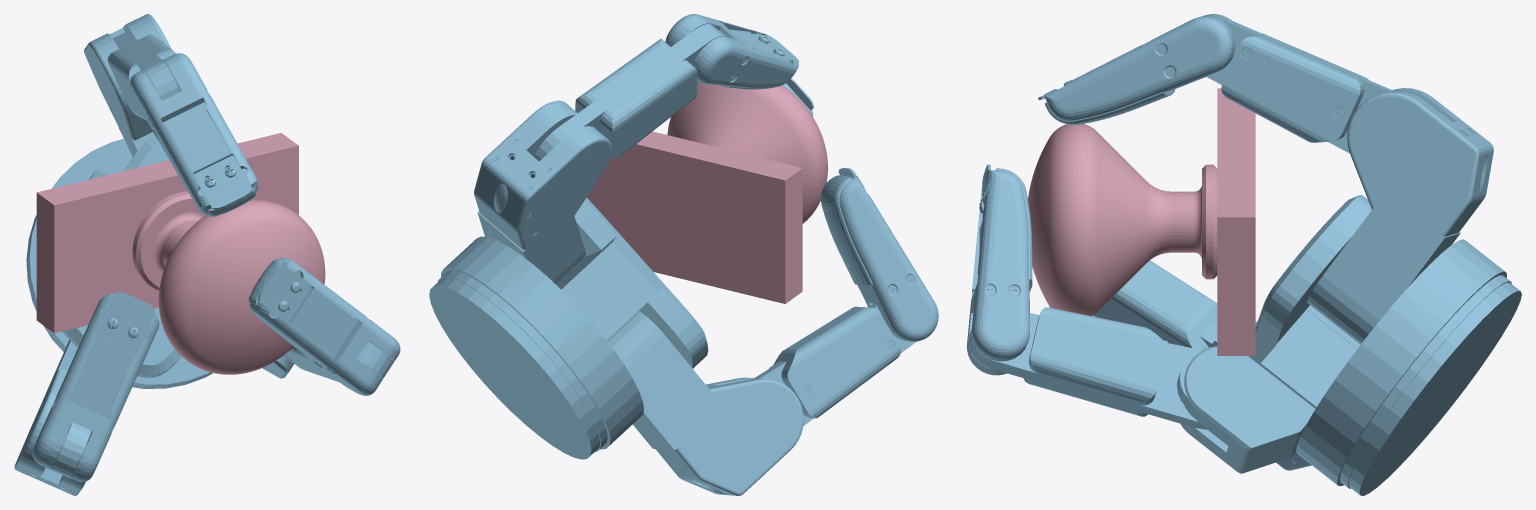
3 renders of one model, left to right at view 1: azimuth 30°, elevation 25°; view 2: azimuth 150°, elevation 25°; view 3: azimuth 270°, elevation 25°, orthographic. The views are drawn at different scales.
Visible parts, largest first — view 1: world; view 2: world; view 3: world.
Part boxes in pixels (left/top/right/bottom): world: left=14, top=14, right=400, bottom=495; world: left=429, top=14, right=938, bottom=495; world: left=967, top=14, right=1521, bottom=495.
Size of the model in its own units: 0.1531 by 0.176 by 0.1815.
